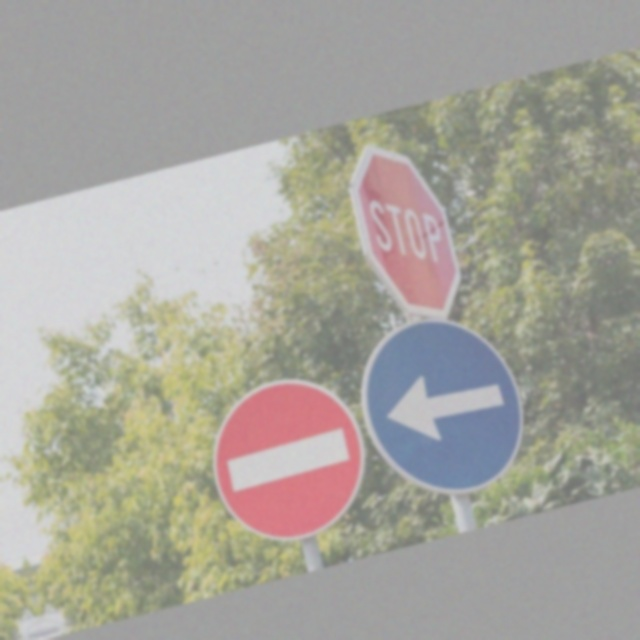Compulsory_Turn_Left: (345, 295, 542, 515)
